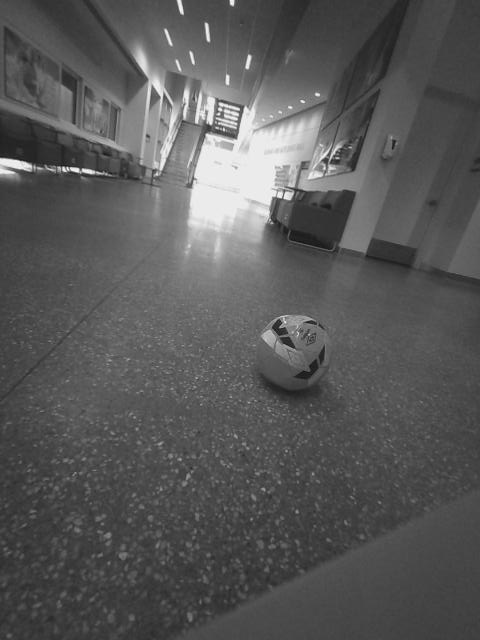ball: (404, 308, 469, 365)
